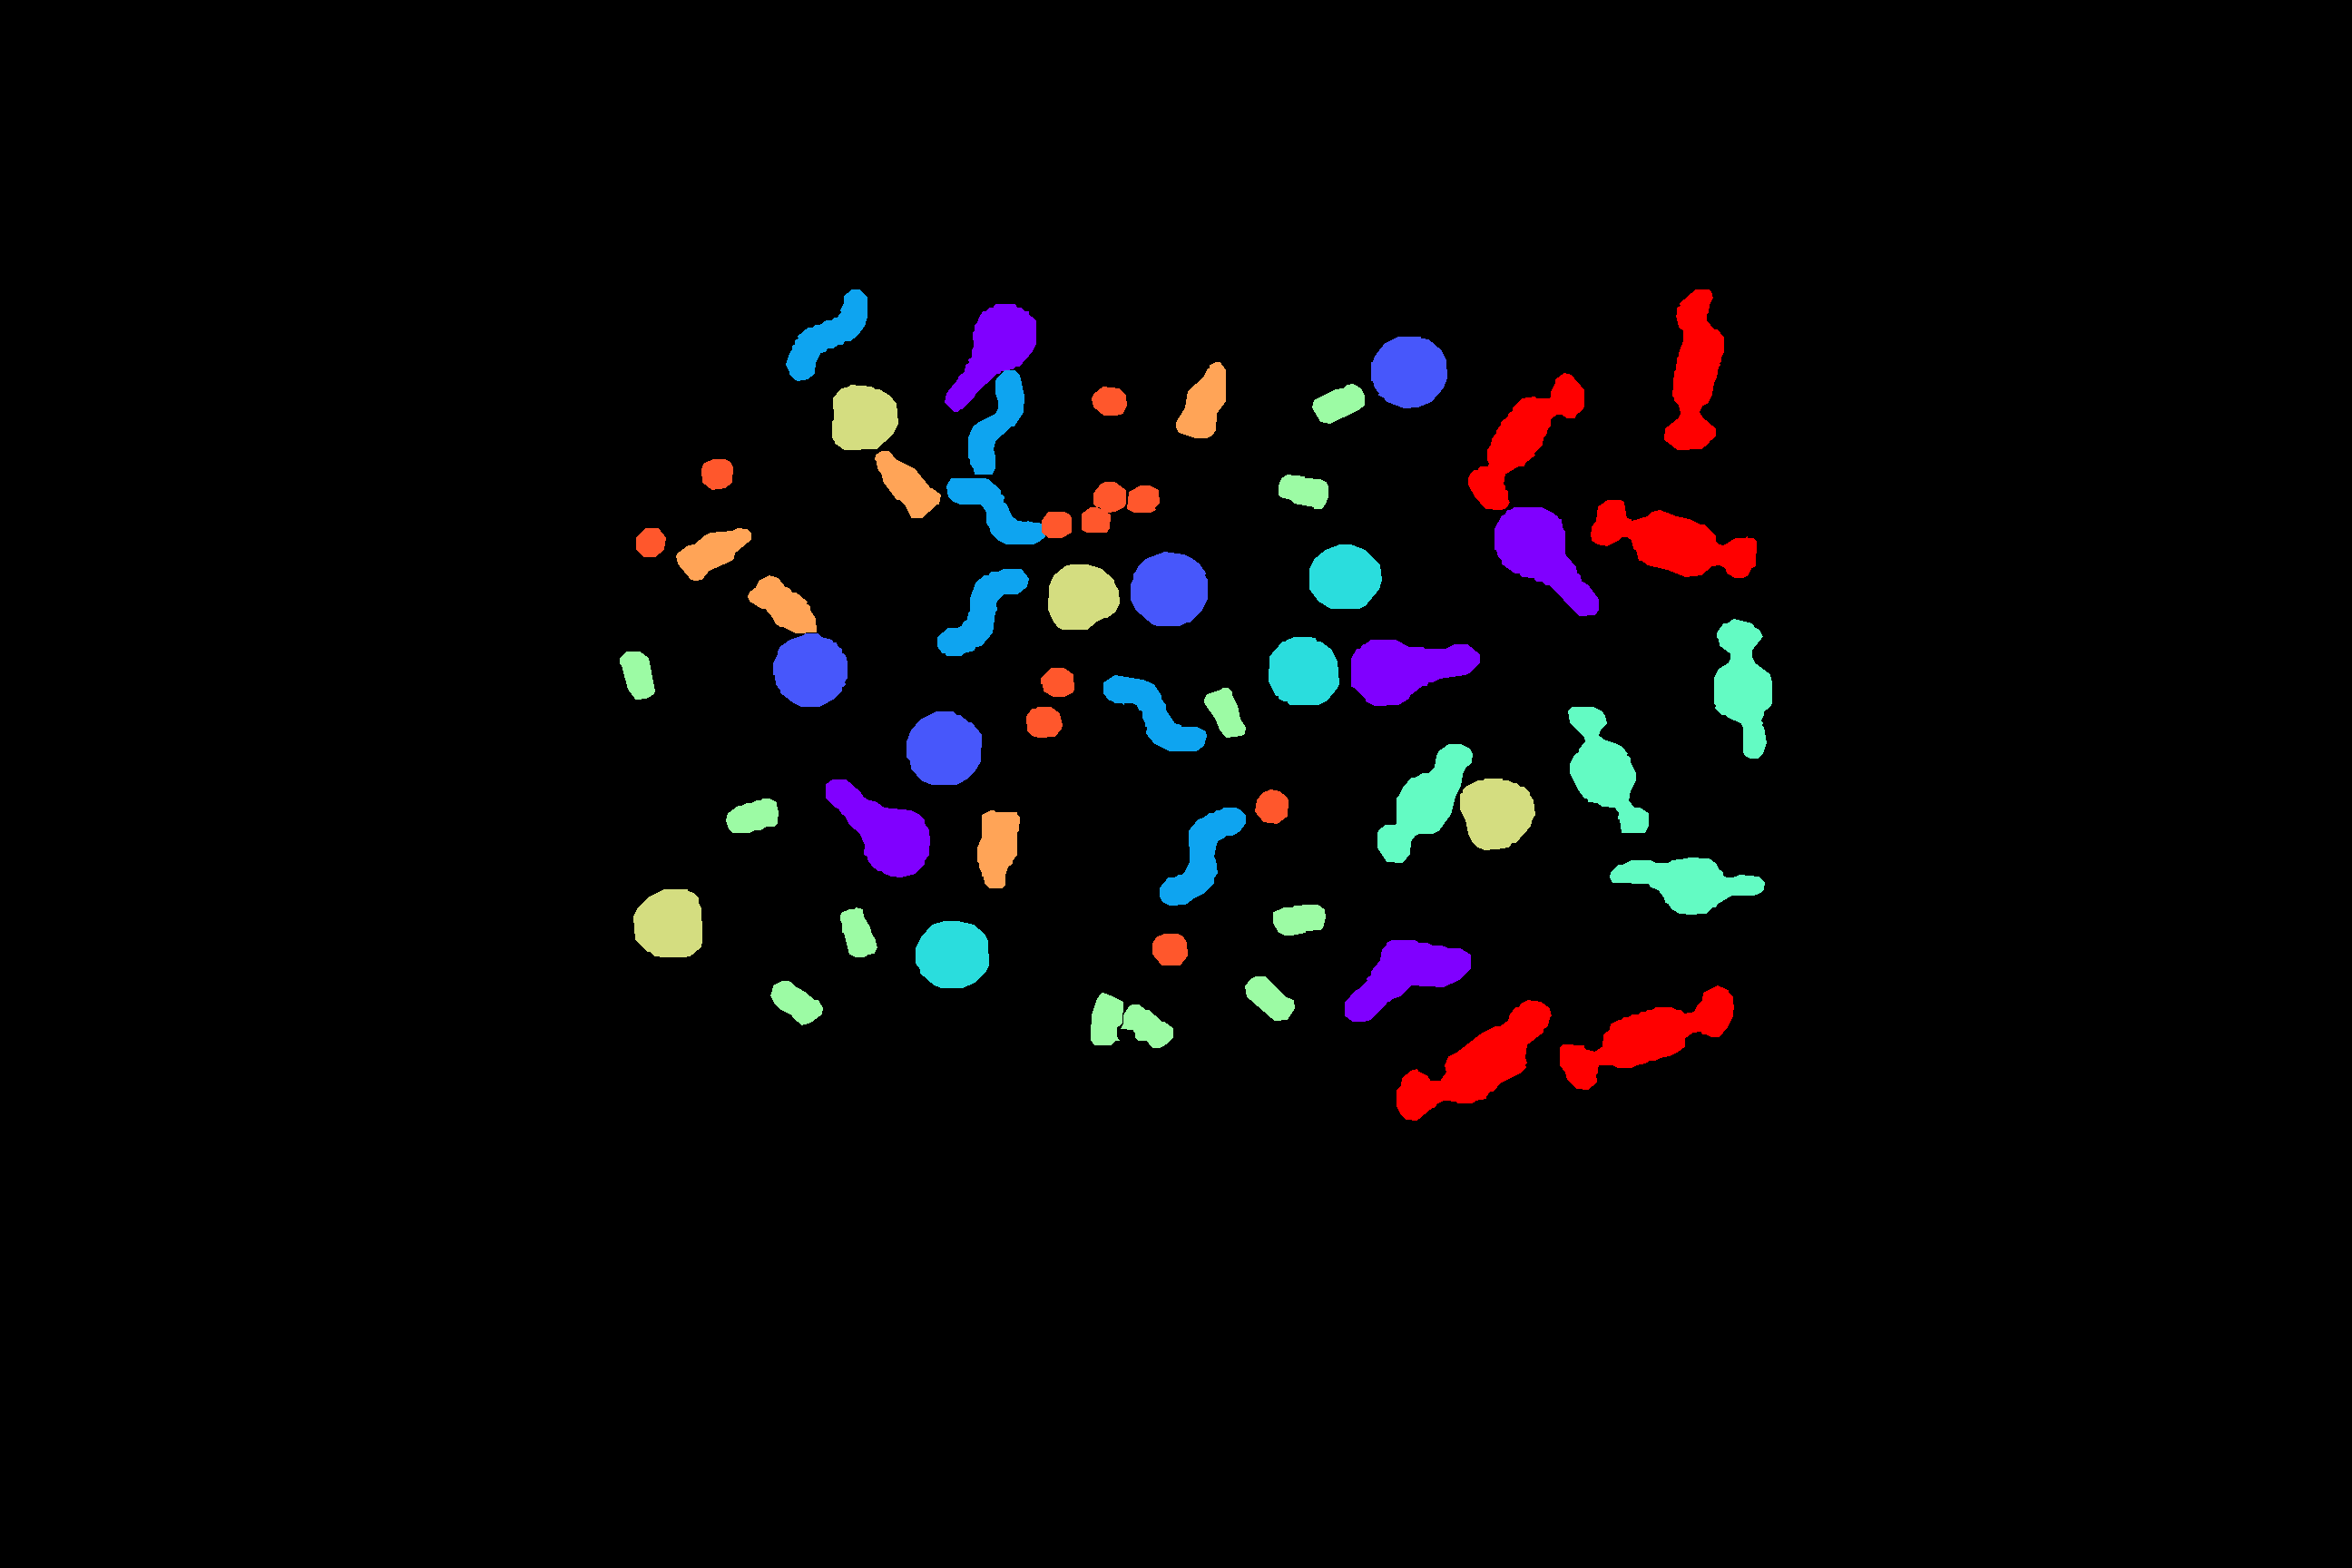apricot_jellies: (1460, 779, 1535, 849), (633, 889, 702, 957), (1048, 565, 1118, 628), (831, 385, 898, 450)
bear: (770, 982, 822, 1024), (1120, 1004, 1172, 1046), (1244, 976, 1293, 1020), (1313, 383, 1363, 423), (1204, 688, 1244, 737), (840, 908, 877, 957), (726, 798, 777, 831), (1090, 992, 1122, 1045), (620, 651, 655, 698), (1279, 474, 1328, 508), (1272, 905, 1325, 935)
coin_candy: (1130, 551, 1207, 625), (1370, 336, 1447, 408), (906, 712, 982, 784), (773, 633, 847, 705)
cola bottle candies: (875, 451, 940, 518), (747, 576, 816, 632), (675, 528, 751, 579), (1176, 362, 1225, 438), (976, 810, 1019, 887)
dummies: (1494, 508, 1598, 616), (1344, 940, 1470, 1020), (826, 779, 929, 877), (945, 304, 1036, 411), (1351, 640, 1479, 705)
riesen: (1396, 999, 1551, 1120), (1559, 985, 1732, 1089), (1468, 373, 1584, 509), (1591, 500, 1755, 577), (1664, 289, 1724, 450)
skittles: (1255, 789, 1288, 822), (1025, 707, 1062, 737), (1153, 935, 1187, 964), (1094, 481, 1125, 511), (1092, 387, 1125, 415), (702, 458, 731, 488), (1041, 669, 1073, 696), (635, 528, 665, 557), (1127, 485, 1158, 511), (1041, 511, 1071, 537), (1081, 508, 1109, 532)
sourworms: (1160, 807, 1244, 905), (938, 569, 1027, 655), (1104, 675, 1206, 751), (786, 289, 866, 380), (947, 478, 1045, 544), (968, 371, 1024, 474)
tofifee: (915, 920, 989, 987), (1269, 637, 1339, 704), (1309, 544, 1381, 607)
vollmilch_brocken: (1377, 744, 1472, 863), (1568, 707, 1649, 831), (1610, 857, 1764, 914), (1713, 620, 1771, 758)
